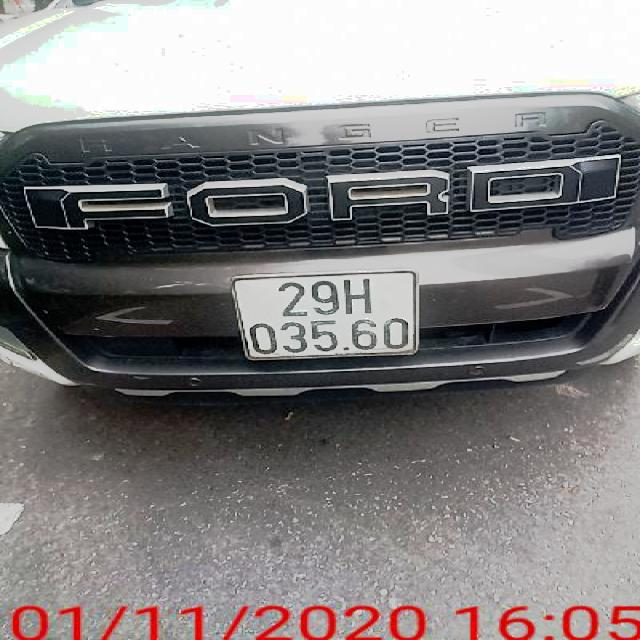license_plate: (232, 272, 419, 359)
